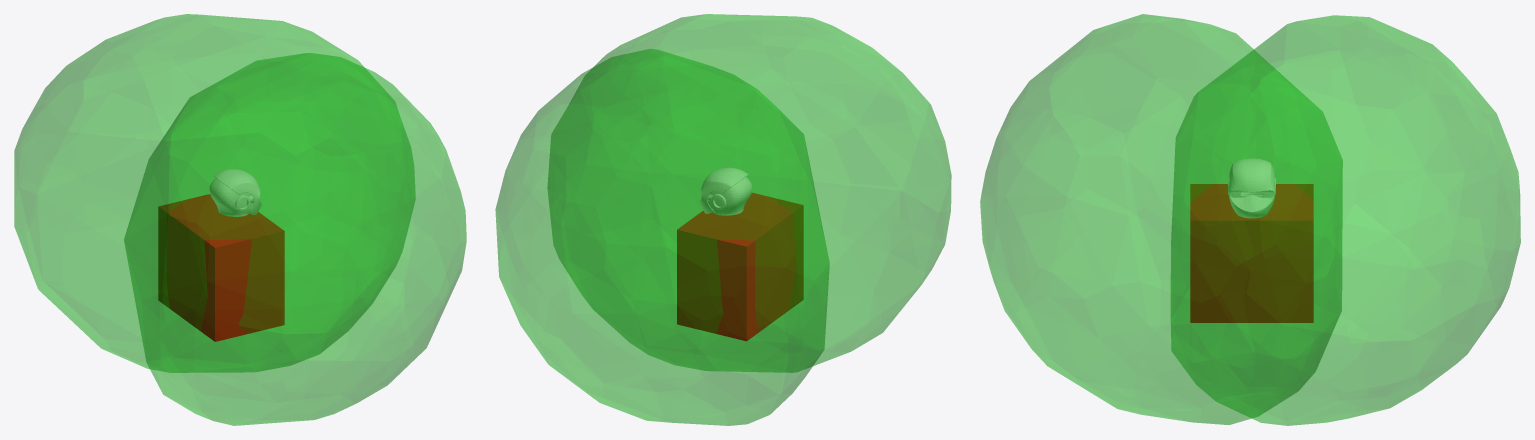
Rendered from talos_trunk_upper_visual.dae.
3 views of the same model, side by side, from view 1: azimuth 30°, elevation 25°; view 2: azimuth 150°, elevation 25°; view 3: azimuth 270°, elevation 25° (orthographic). The views are drawn at different scales.
Visible parts, largest first — view 1: foo, foo_001, trunk_upper, Head_2; view 2: foo_001, foo, trunk_upper, Head_2; view 3: foo_001, foo, trunk_upper, Head_2.
Part boxes in pixels (box(x1,y1,x2,y2)): foo: box(14, 14, 415, 372); foo_001: box(124, 53, 466, 425); trunk_upper: box(158, 194, 284, 341); Head_2: box(209, 169, 261, 216); foo_001: box(547, 14, 951, 372); foo: box(495, 48, 829, 425); trunk_upper: box(677, 192, 803, 341); Head_2: box(699, 167, 752, 215); foo_001: box(980, 14, 1342, 424); foo: box(1171, 15, 1520, 425); trunk_upper: box(1190, 184, 1313, 322); Head_2: box(1228, 158, 1275, 218).
Bounding box in the file's own units: 1.65 × 2.11 × 1.52.
